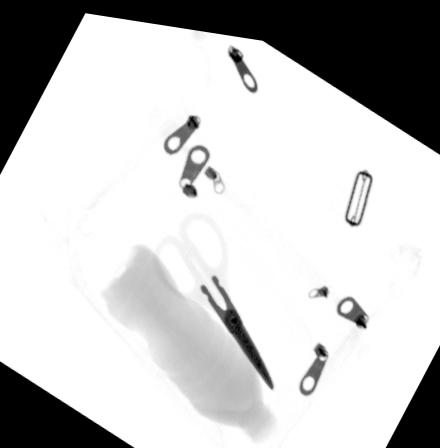Scissors: (150, 205, 273, 380)
